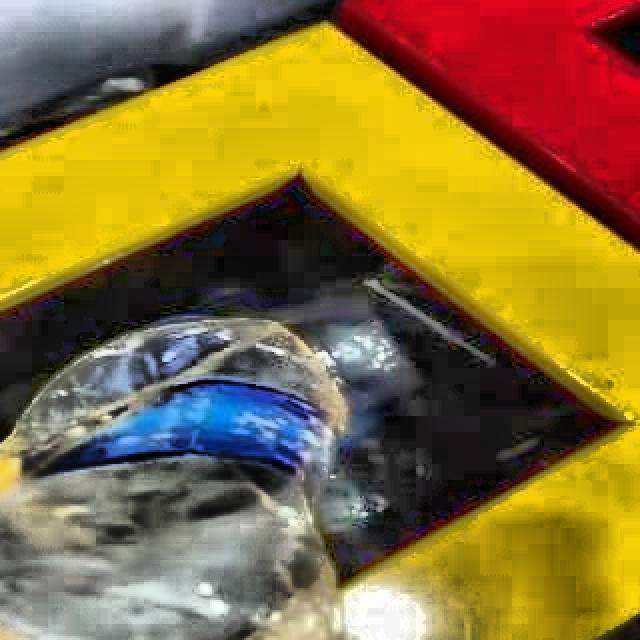plastic: (0, 310, 347, 640)
